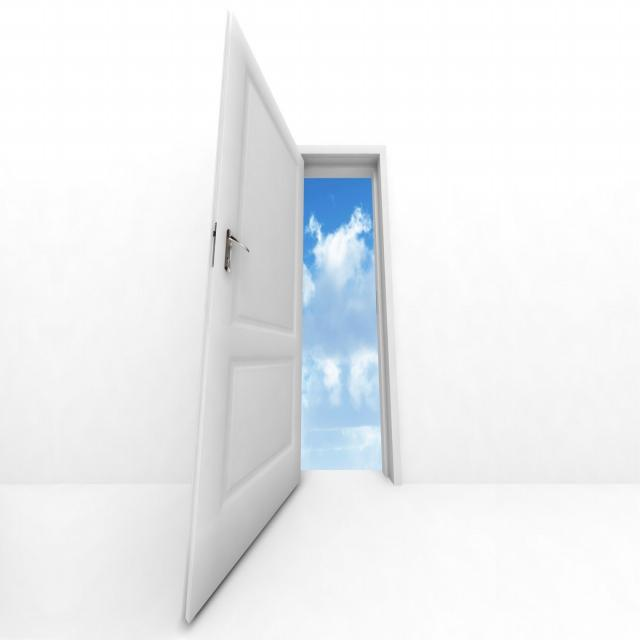open: (210, 149, 383, 586)
